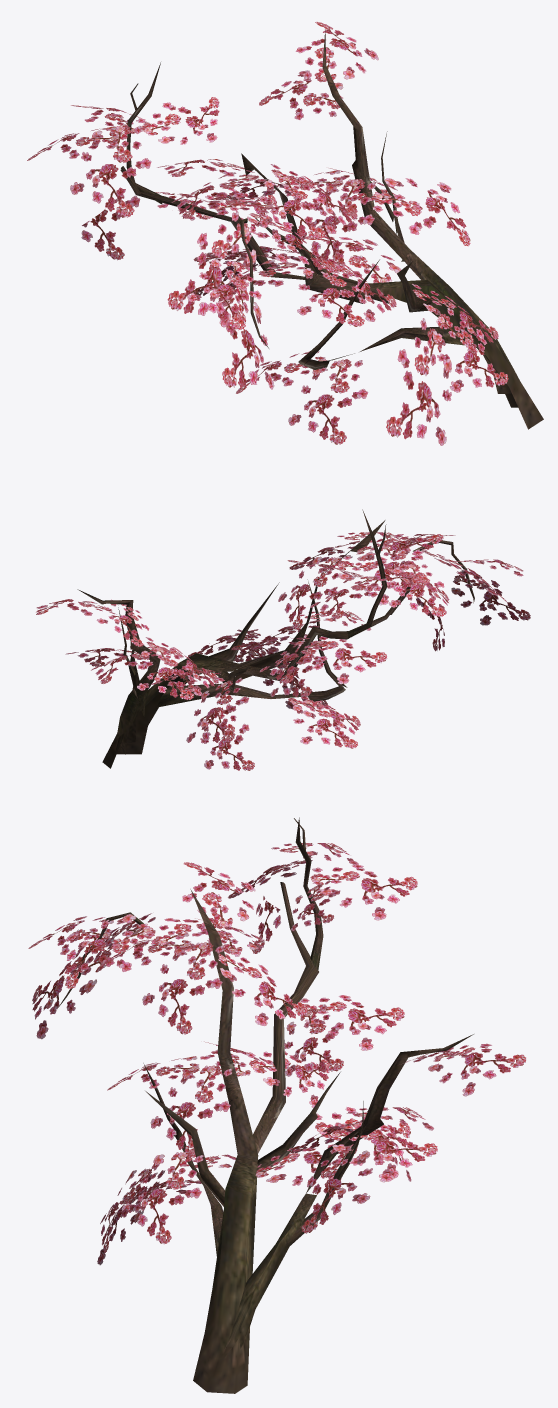
Rendered from S_Tree_Red038_A1.FBX.
The picture shows the model from 3 angles, top to bottom: view 1: azimuth 30°, elevation 25°; view 2: azimuth 150°, elevation 25°; view 3: azimuth 270°, elevation 25°; orthographic projection. The views are drawn at different scales.
Visible parts, largest first — view 1: S_Tree_Red038_A1_2, S_Tree_Red038_A1_1; view 2: S_Tree_Red038_A1_2, S_Tree_Red038_A1_1; view 3: S_Tree_Red038_A1_2, S_Tree_Red038_A1_1.
Part boxes in pixels (left/top/right/bottom): S_Tree_Red038_A1_2: left=27, top=22, right=508, bottom=445; S_Tree_Red038_A1_1: left=120, top=30, right=543, bottom=429; S_Tree_Red038_A1_2: left=36, top=532, right=530, bottom=770; S_Tree_Red038_A1_1: left=77, top=509, right=474, bottom=768; S_Tree_Red038_A1_2: left=28, top=843, right=525, bottom=1265; S_Tree_Red038_A1_1: left=57, top=817, right=473, bottom=1393.
Size of the model in its own units: 574 by 472 by 552.
